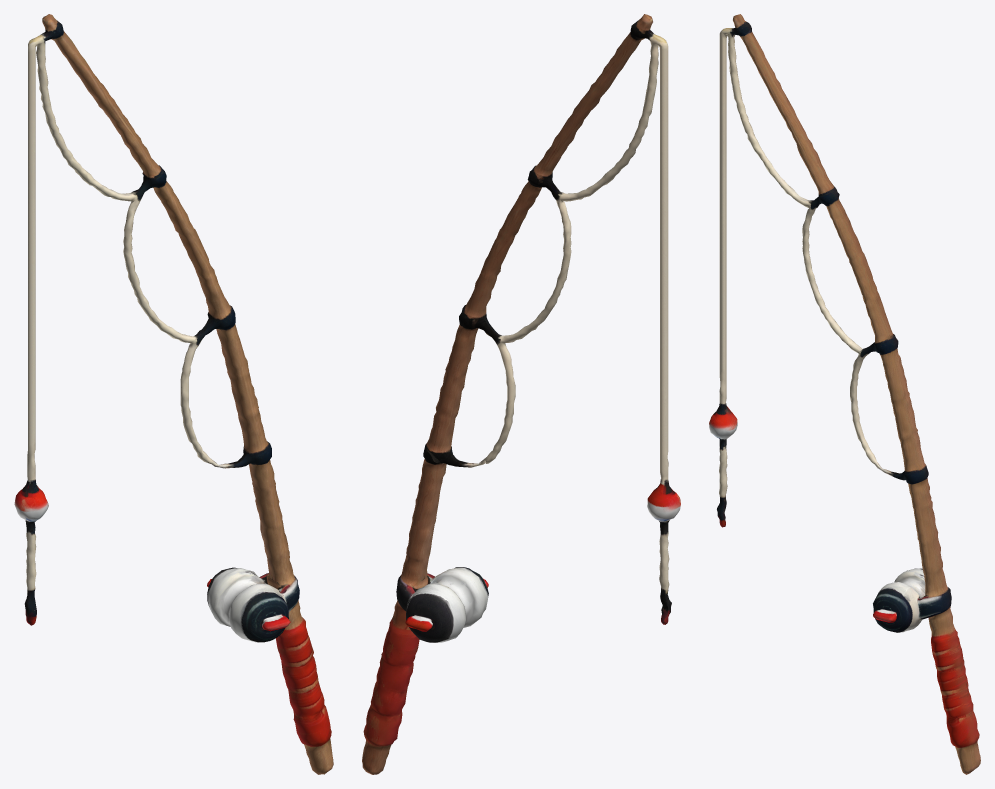
Rendered from angel_schlicht_original.glb.
3 renders of one model, left to right at view 1: azimuth 30°, elevation 25°; view 2: azimuth 150°, elevation 25°; view 3: azimuth 330°, elevation 25°, orthographic. The views are drawn at different scales.
Size of the model in its own units: 0.7593 by 1.91 by 0.2622.
Materials: 1 (1 with a texture image).
